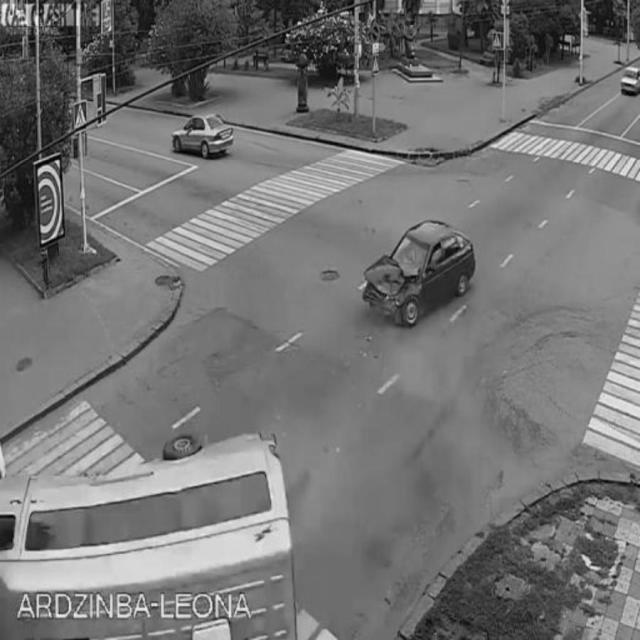accident: (10, 223, 474, 631)
vehicle: (171, 102, 232, 166), (619, 64, 639, 94)
